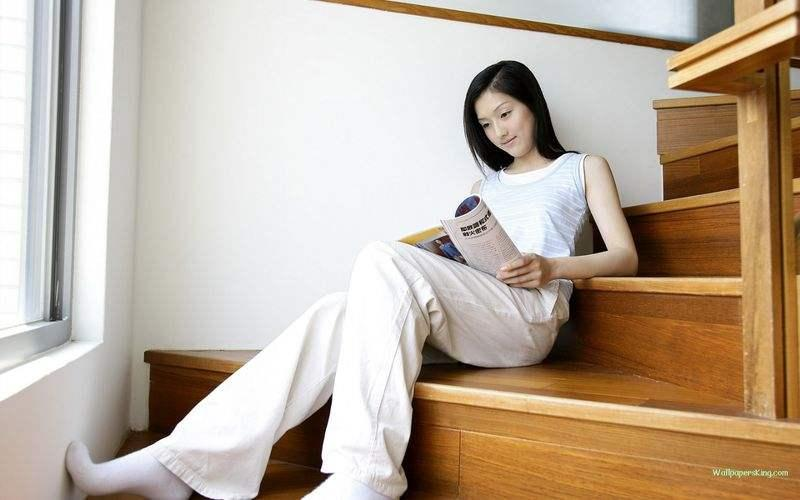book: (385, 191, 554, 297)
